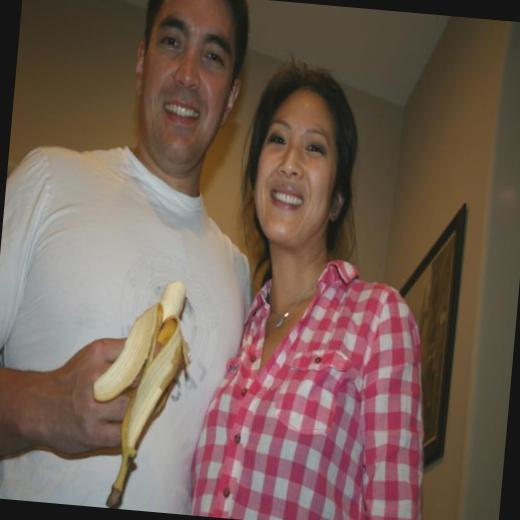Banana: (79, 273, 198, 513)
